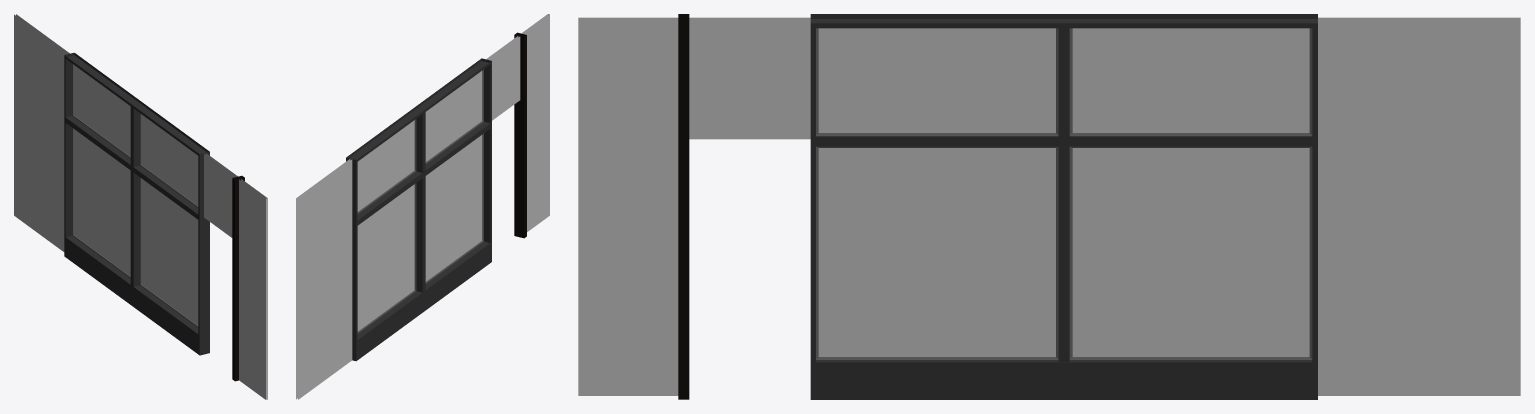
Rendered from DoorWall.fbx.
The picture shows the model from 3 angles, left to right: view 1: azimuth 30°, elevation 25°; view 2: azimuth 150°, elevation 25°; view 3: azimuth 270°, elevation 25°; orthographic projection. The views are drawn at different scales.
Visible parts, largest first — view 1: Window.003, Wall.015, Wall.011, Wall.016, Wall.005; view 2: Window.003, Wall.015, Wall.011, Wall.005, Wall.016, Wall.006; view 3: Window.003, Wall.006, Wall.011, Wall.014, Wall.005.
Part boxes in pixels (left/top/right/bottom): Window.003: left=64, top=52, right=209, bottom=355; Wall.015: left=14, top=14, right=67, bottom=251; Wall.011: left=239, top=179, right=267, bottom=399; Wall.016: left=204, top=153, right=235, bottom=237; Wall.005: left=232, top=175, right=244, bottom=381; Window.003: left=346, top=58, right=491, bottom=361; Wall.015: left=298, top=159, right=352, bottom=399; Wall.011: left=521, top=14, right=549, bottom=231; Wall.005: left=514, top=32, right=526, bottom=238; Wall.016: left=488, top=36, right=520, bottom=120; Wall.006: left=296, top=159, right=350, bottom=399; Window.003: left=810, top=14, right=1317, bottom=399; Wall.006: left=1318, top=19, right=1520, bottom=395; Wall.011: left=578, top=17, right=678, bottom=395; Wall.014: left=689, top=19, right=810, bottom=139; Wall.005: left=678, top=14, right=689, bottom=399.
Bounding box in the file's own units: 15.94 × 300 × 680.
